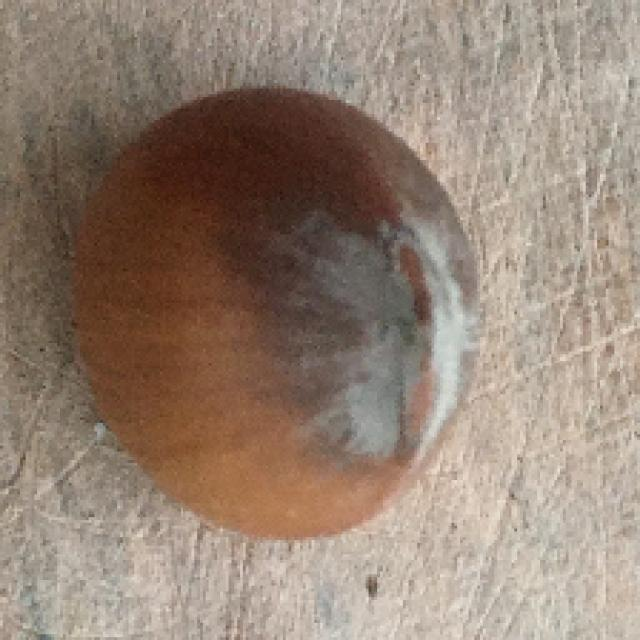damagedHazelnut: (65, 75, 492, 554)
